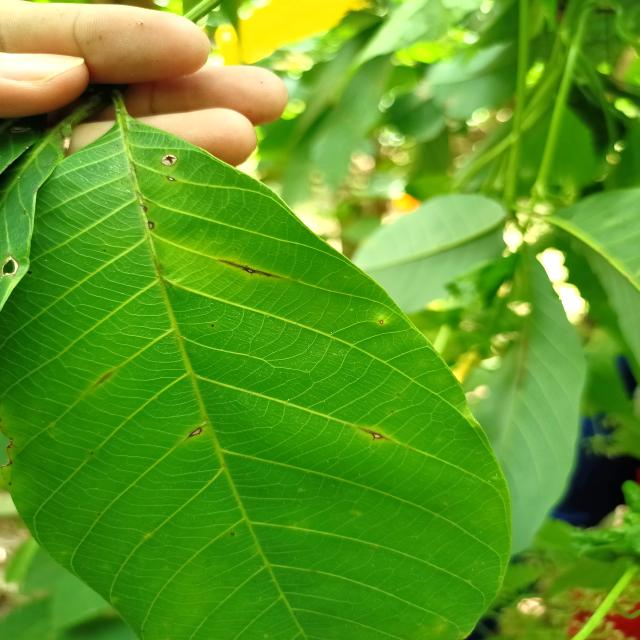Colletotrichum: (379, 320, 384, 324), (212, 324, 214, 327)
Corynespora: (218, 258, 280, 280), (356, 426, 388, 440)
